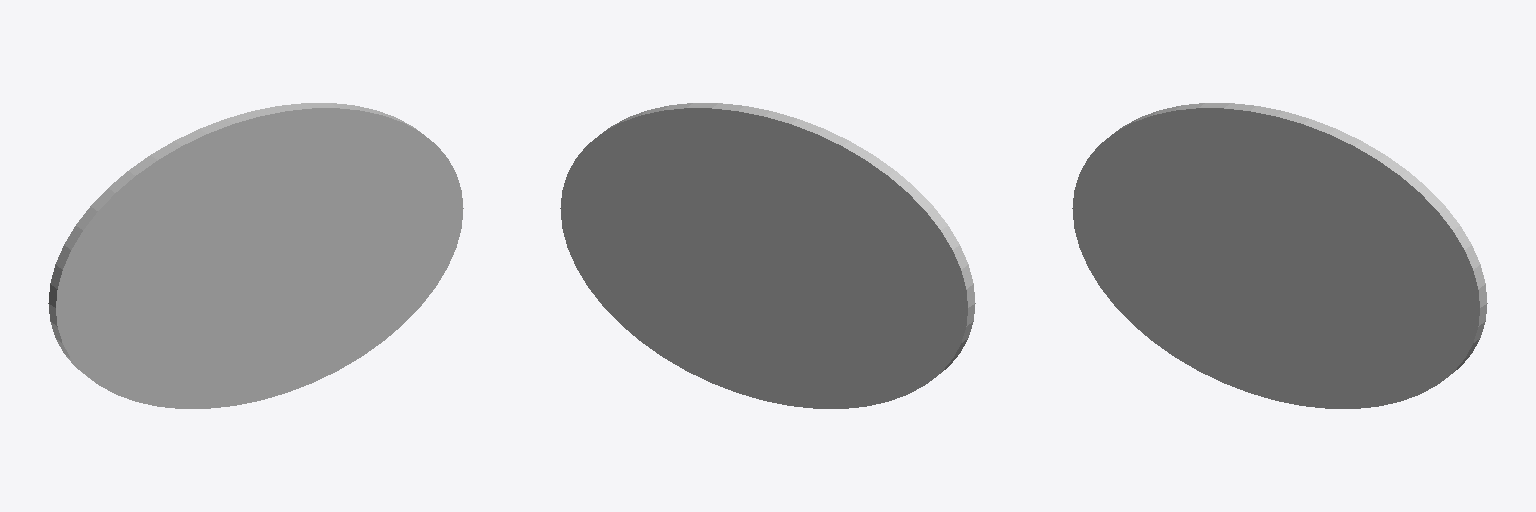
Rendered from table_3.obj.
3 views of the same model, side by side, from view 1: azimuth 30°, elevation 25°; view 2: azimuth 150°, elevation 25°; view 3: azimuth 330°, elevation 25° (orthographic).
Visible parts, largest first — view 1: obj1; view 2: obj2; view 3: obj1.
Boxes of the visible parts, x1=… form: obj1: x1=56, y1=108, x2=463, y2=408; obj2: x1=560, y1=108, x2=967, y2=408; obj1: x1=1072, y1=108, x2=1479, y2=408.
Bounding box in the file's own units: 48 × 32 × 1.5.